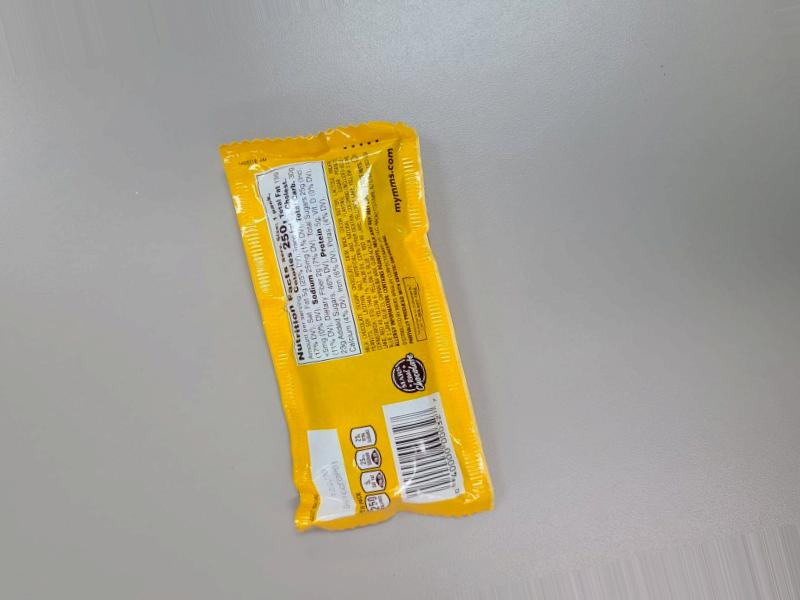m&m: (204, 137, 507, 507)
